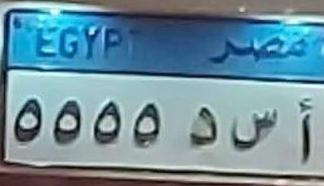5: (131, 104, 163, 143), (91, 102, 120, 142), (14, 100, 44, 138), (53, 99, 83, 136)
alif: (290, 96, 318, 162)
daal: (186, 103, 220, 149)
seen: (227, 108, 280, 149)
